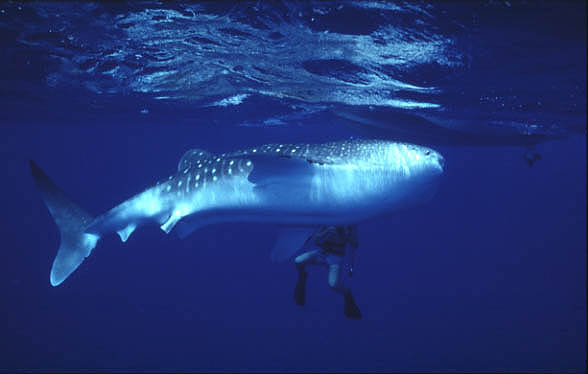Rhincodon_typusw: (28, 126, 468, 294)
